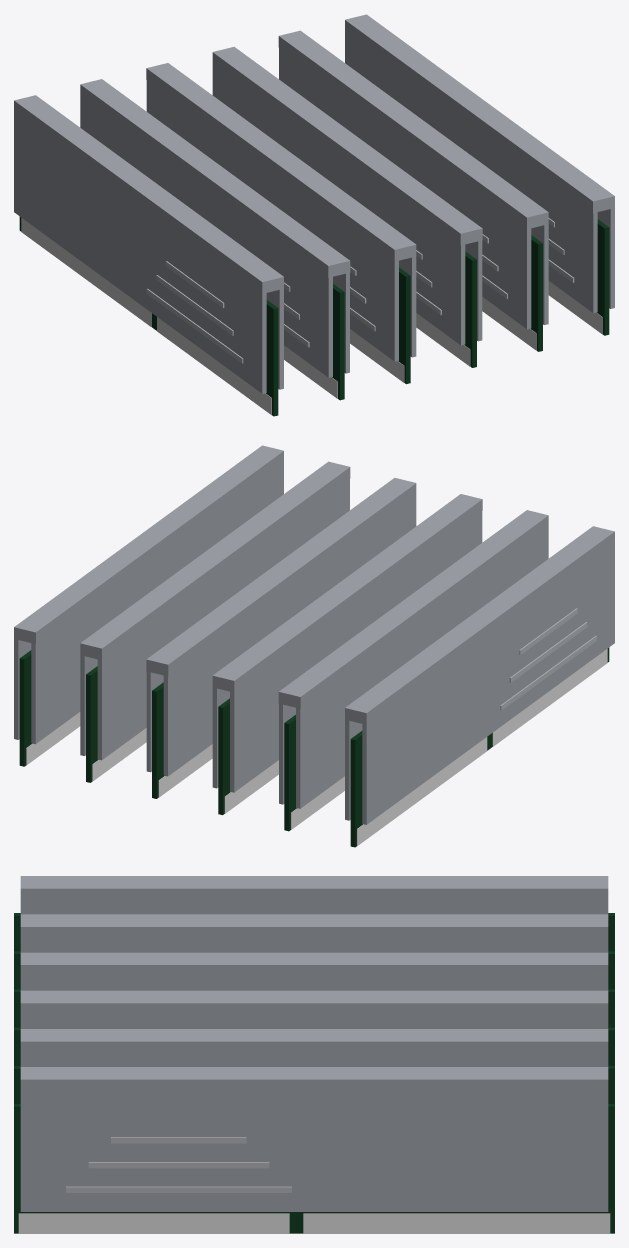
File: hw_ram_ddr3_24gb.glb
3 renders of one model, top to bottom at view 1: azimuth 30°, elevation 25°; view 2: azimuth 150°, elevation 25°; view 3: azimuth 270°, elevation 25°, orthographic. The views are drawn at different scales.
Visible parts, largest first — view 1: Stick_1, Stick_3, Stick_4, Body, Stick_5, Stick_2; view 2: Stick_1, Stick_3, Stick_4, Body, Stick_5, Stick_2; view 3: Body, Stick_1, Stick_2, Stick_3, Stick_4, Stick_5.
Boxes of the visible parts, bbox=[...] form: Stick_1: bbox=[14, 95, 283, 416]; Stick_3: bbox=[146, 63, 416, 384]; Stick_4: bbox=[212, 46, 482, 367]; Body: bbox=[345, 14, 614, 335]; Stick_5: bbox=[278, 30, 548, 351]; Stick_2: bbox=[80, 79, 350, 400]; Stick_1: bbox=[345, 526, 614, 847]; Stick_3: bbox=[212, 494, 482, 815]; Stick_4: bbox=[146, 477, 416, 798]; Body: bbox=[14, 445, 283, 766]; Stick_5: bbox=[80, 461, 350, 782]; Stick_2: bbox=[278, 510, 548, 831]; Body: bbox=[14, 1067, 614, 1233]; Stick_1: bbox=[14, 876, 614, 951]; Stick_2: bbox=[14, 914, 614, 989]; Stick_3: bbox=[14, 952, 614, 1027]; Stick_4: bbox=[14, 990, 614, 1065]; Stick_5: bbox=[14, 1029, 614, 1103].
Size of the model in its own units: 0.1072 by 0.0388 by 0.133.
